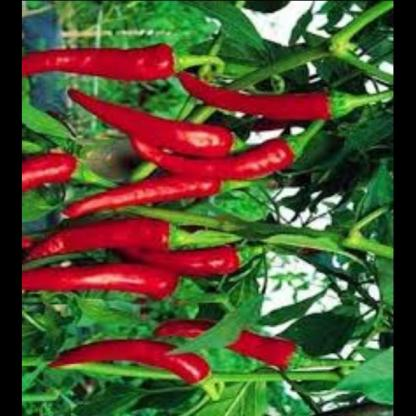hot pepper: (66, 84, 241, 167), (183, 57, 366, 132), (157, 317, 332, 384), (49, 324, 211, 393), (112, 139, 327, 183), (57, 177, 239, 224), (22, 32, 178, 86), (22, 219, 193, 264), (22, 261, 180, 303), (22, 142, 96, 197)
